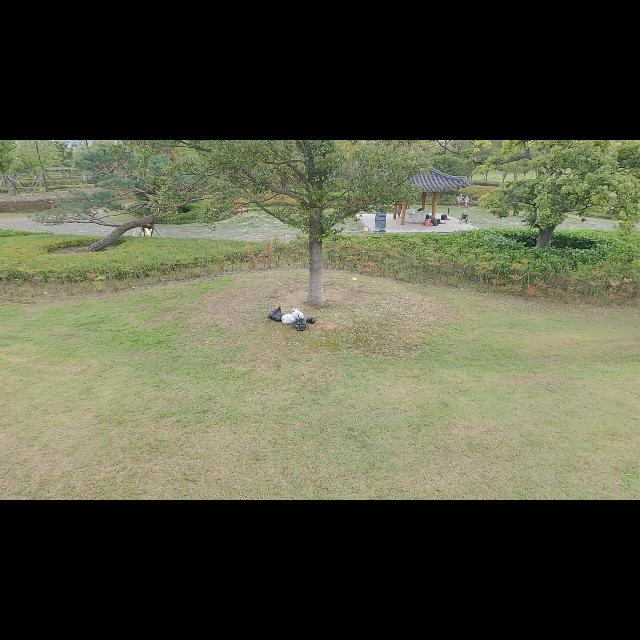trash: (268, 302, 284, 326), (291, 316, 309, 334), (279, 310, 295, 328), (290, 306, 306, 322), (304, 314, 318, 326)
